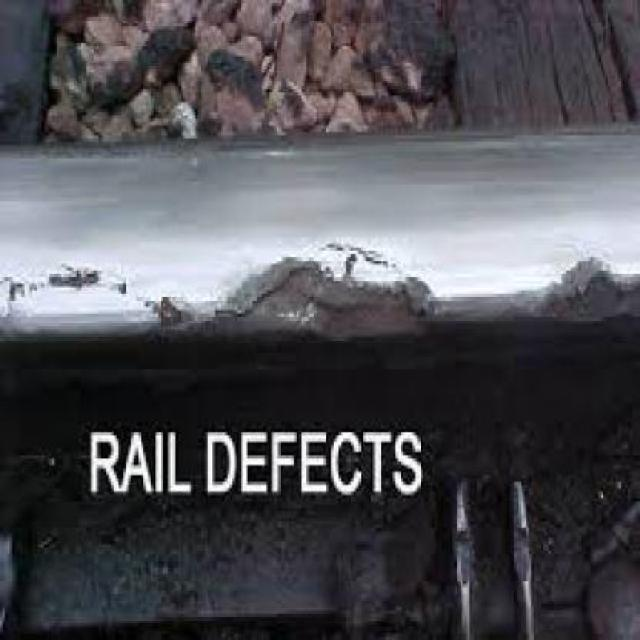defective: (4, 93, 640, 422)
